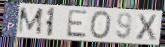1: (45, 6, 56, 39)
9: (115, 12, 134, 41)
E: (65, 9, 89, 39)
M: (17, 7, 45, 36)
O: (88, 10, 112, 41)
X: (135, 13, 158, 41)
